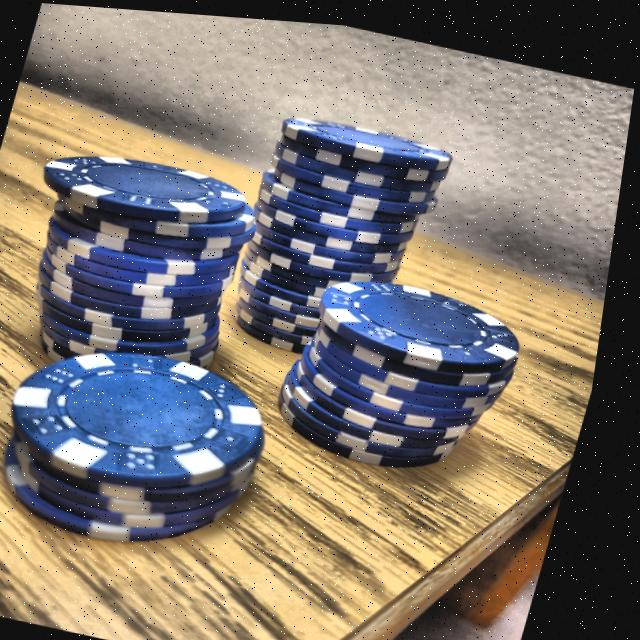Chip: (0, 310, 317, 581), (199, 78, 466, 387), (3, 117, 292, 400), (280, 236, 555, 490)
